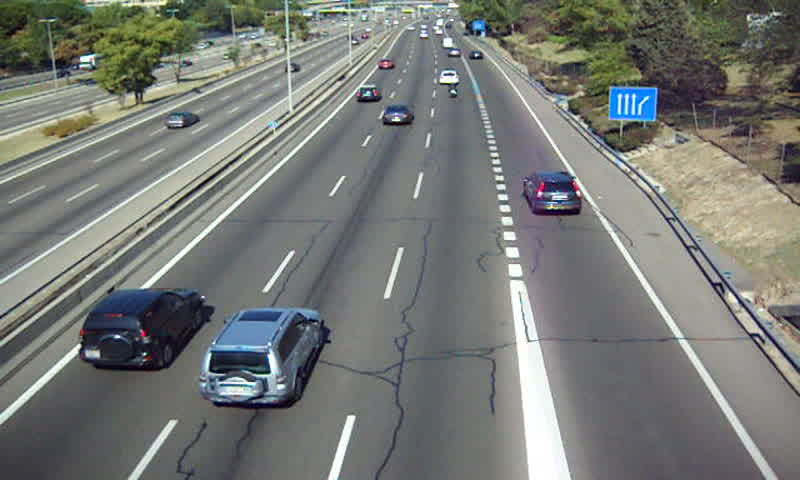car: (197, 308, 324, 407), (79, 287, 202, 370), (522, 171, 584, 215), (382, 105, 415, 128), (356, 85, 383, 105), (438, 70, 460, 84), (378, 58, 396, 70)
motorcycle: (446, 82, 459, 100)
